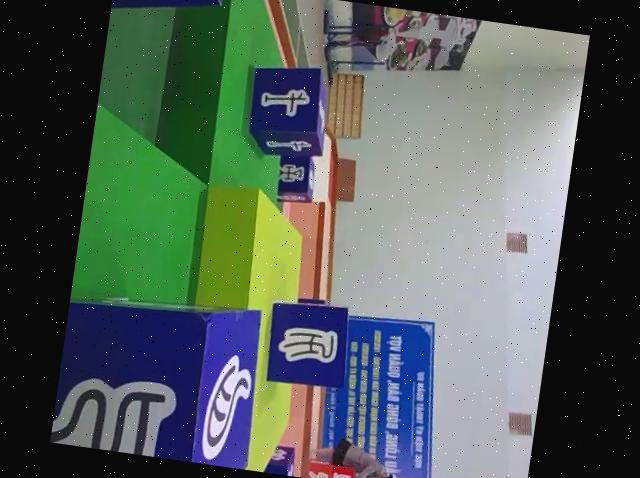R2 Fake Blue: (50, 280, 273, 471), (260, 292, 357, 392)
R2 Real Blue: (242, 58, 333, 160), (111, 0, 222, 23), (273, 150, 318, 205), (252, 440, 296, 476)
